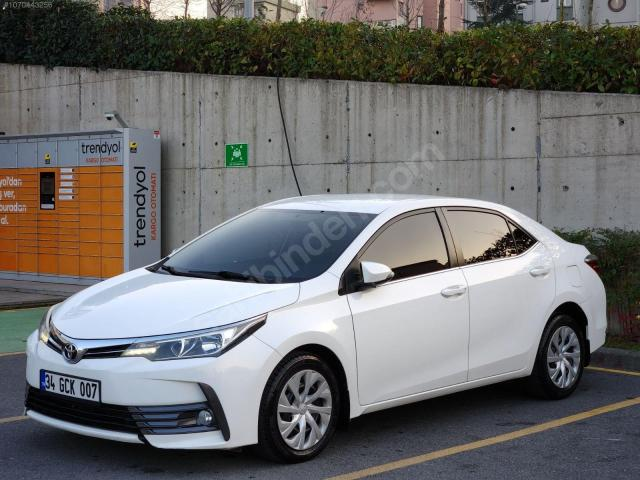plaka: (40, 370, 100, 402)
